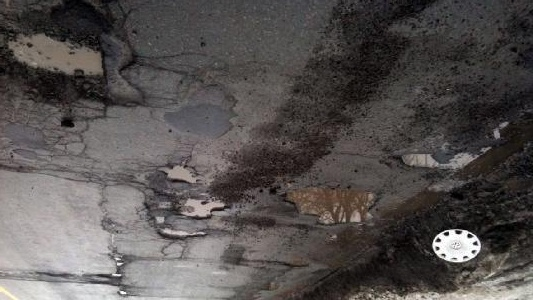pothole: (2, 28, 112, 110), (281, 185, 379, 227), (180, 197, 228, 223), (398, 151, 442, 173), (157, 163, 198, 186), (157, 226, 208, 242)
